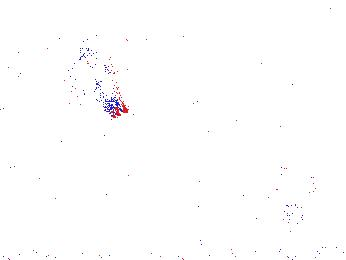flame jellyfish: (65, 47, 127, 118), (271, 157, 322, 211)
